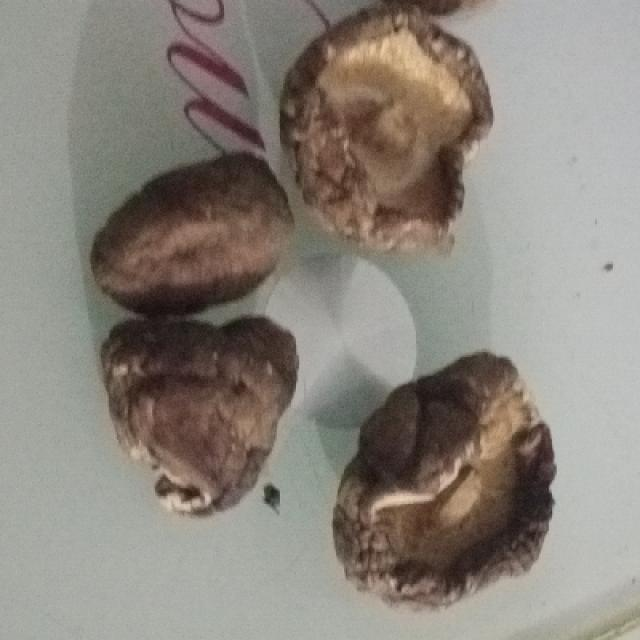Lentinus edodes: (335, 350, 556, 611), (283, 6, 494, 258), (103, 322, 290, 514), (95, 152, 294, 316)
